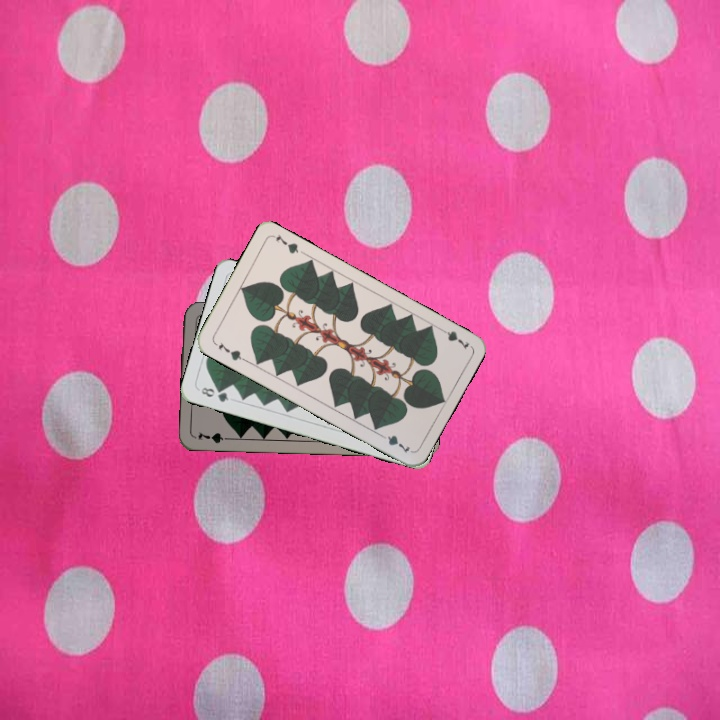G7: (434, 323, 472, 352), (210, 338, 248, 363), (194, 428, 234, 446)
G8: (197, 383, 231, 405)
